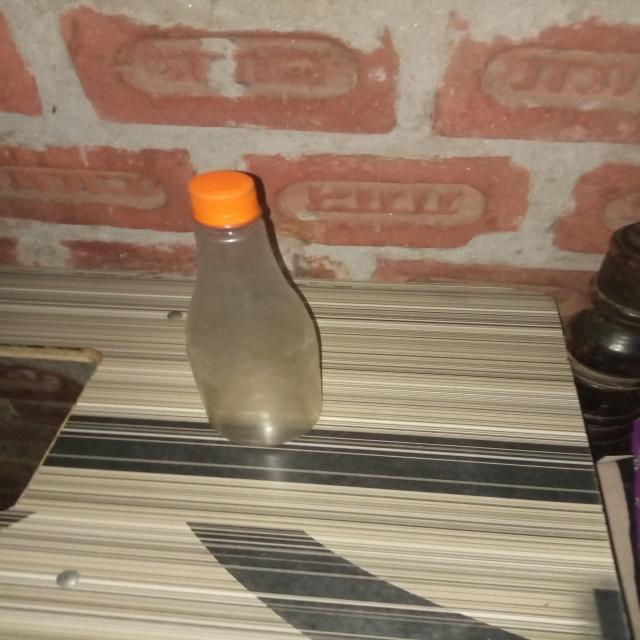good: (172, 166, 332, 452)
